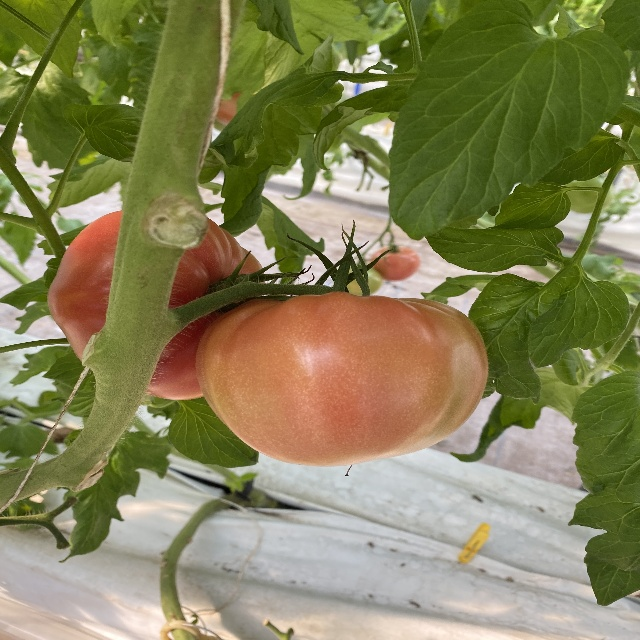b_fully_ripened: (47, 208, 265, 400)
b_half_ripened: (196, 290, 490, 467)
